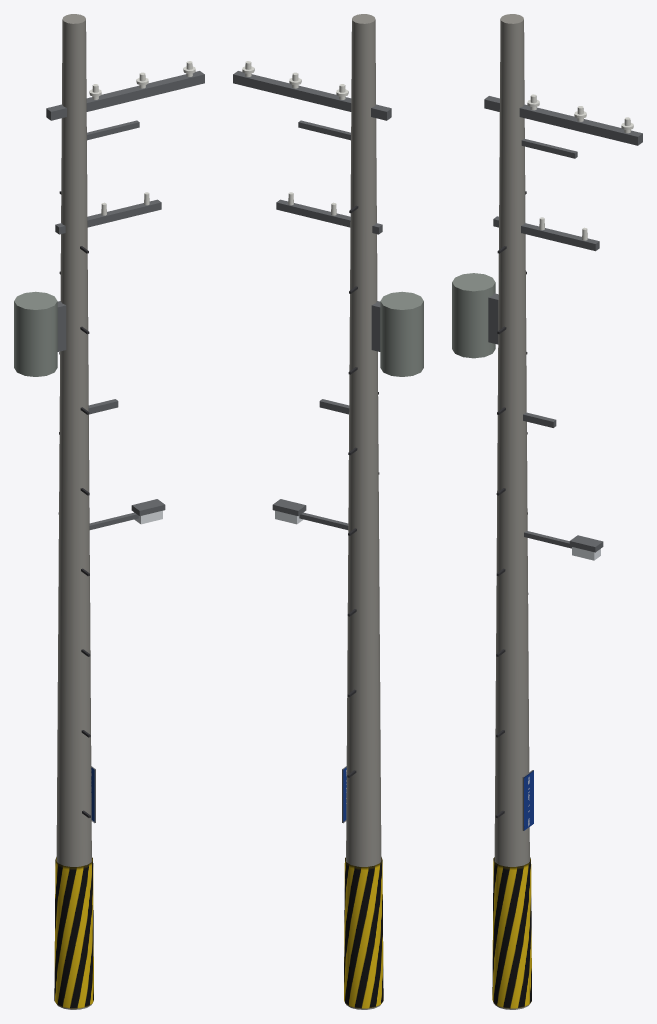
File: pole.obj
3 renders of one model, left to right at view 1: azimuth 30°, elevation 25°; view 2: azimuth 150°, elevation 25°; view 3: azimuth 330°, elevation 25°, orthographic.
Visible parts, largest first — view 1: pole; view 2: pole; view 3: pole.
Boxes of the visible parts, <box> form: pole: <box>14,14,204,1009</box>; pole: <box>233,14,423,1009</box>; pole: <box>452,14,642,1009</box>.
Bounding box in the file's own units: 2.17 × 11 × 0.6291.
